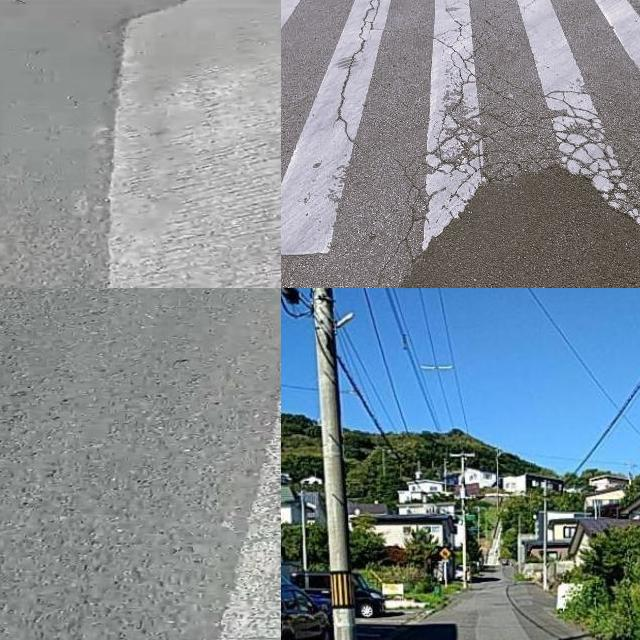Sambungan: (106, 0, 281, 288), (406, 164, 640, 288)
